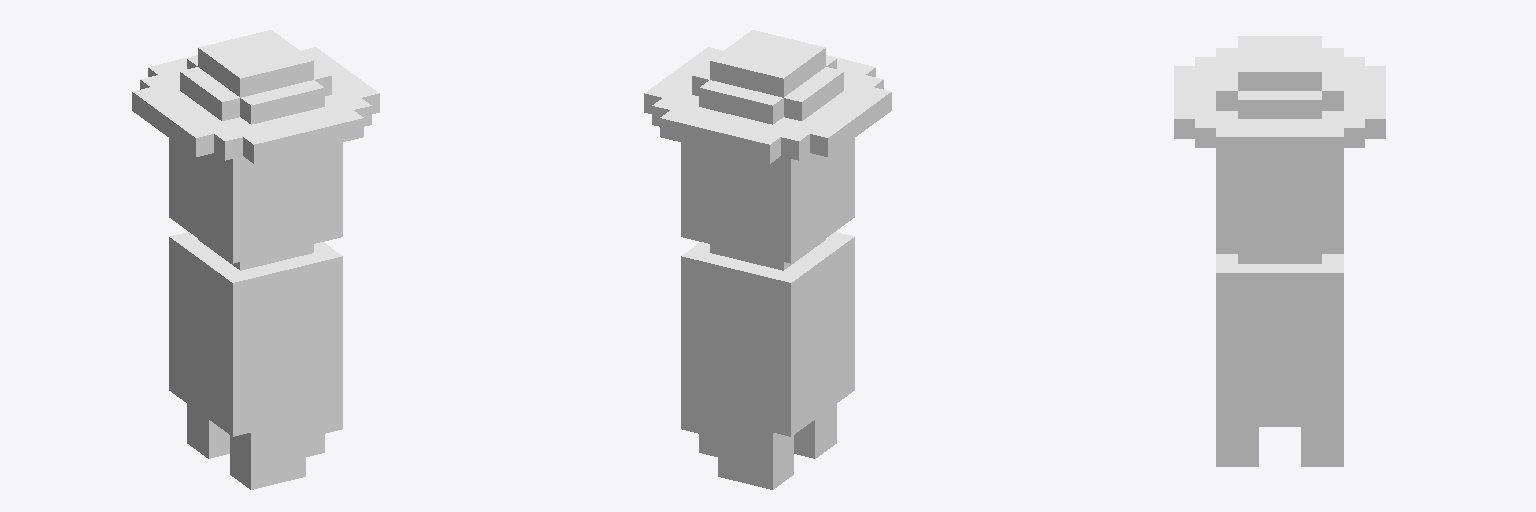
Rendered from PlayerShooterCrouched.obj.
3 views of the same model, side by side, from view 1: azimuth 30°, elevation 25°; view 2: azimuth 150°, elevation 25°; view 3: azimuth 270°, elevation 25° (orthographic).
Bounding box in the file's own units: 10 × 21 × 10.